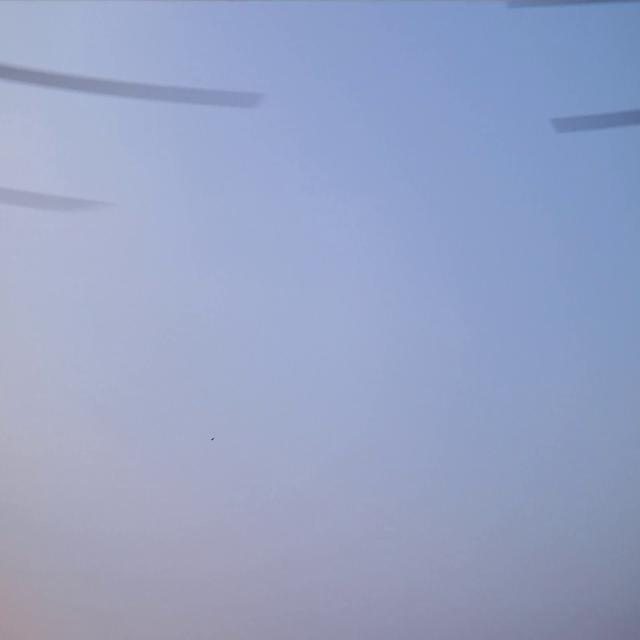UAV: (210, 435, 214, 441)
